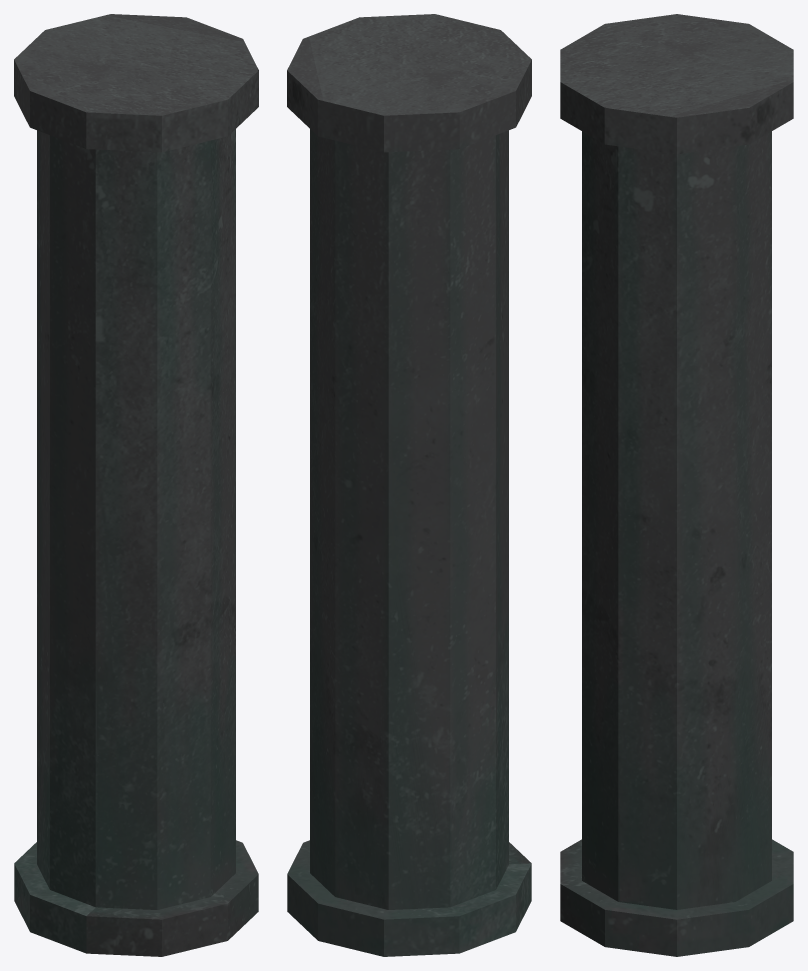
File: Pipe Straight Medium.fbx
3 renders of one model, left to right at view 1: azimuth 30°, elevation 25°; view 2: azimuth 150°, elevation 25°; view 3: azimuth 270°, elevation 25°, orthographic.
Parts seen in each view (by area): view 1: Straight_M; view 2: Straight_M; view 3: Straight_M.
Part boxes in pixels (<box>): Straight_M: <box>14,14,258,956</box>; Straight_M: <box>287,14,531,956</box>; Straight_M: <box>560,14,793,956</box>.
Bounding box in the file's own units: 2.46 × 9.28 × 2.34.
1 material, 1 textured.
